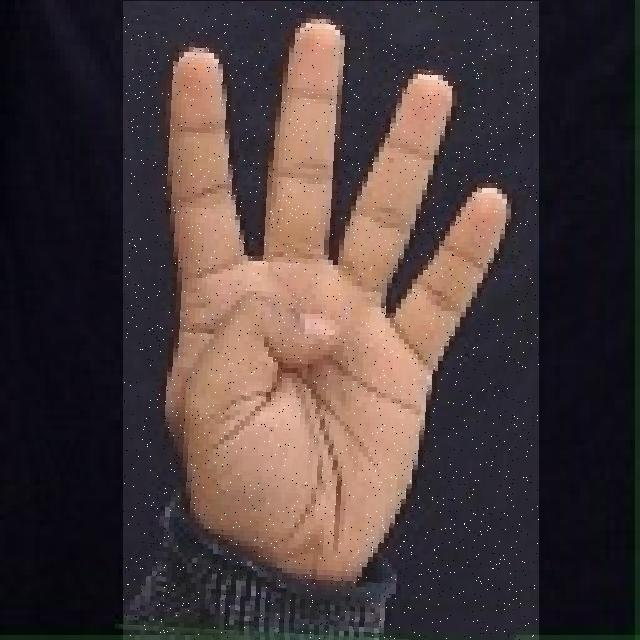Thanks: (123, 1, 539, 640)
